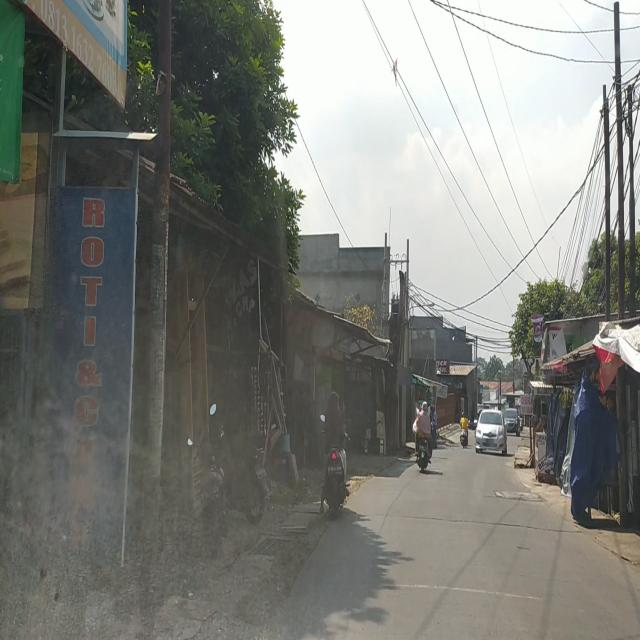Sewer Cover: (400, 515, 580, 537)
